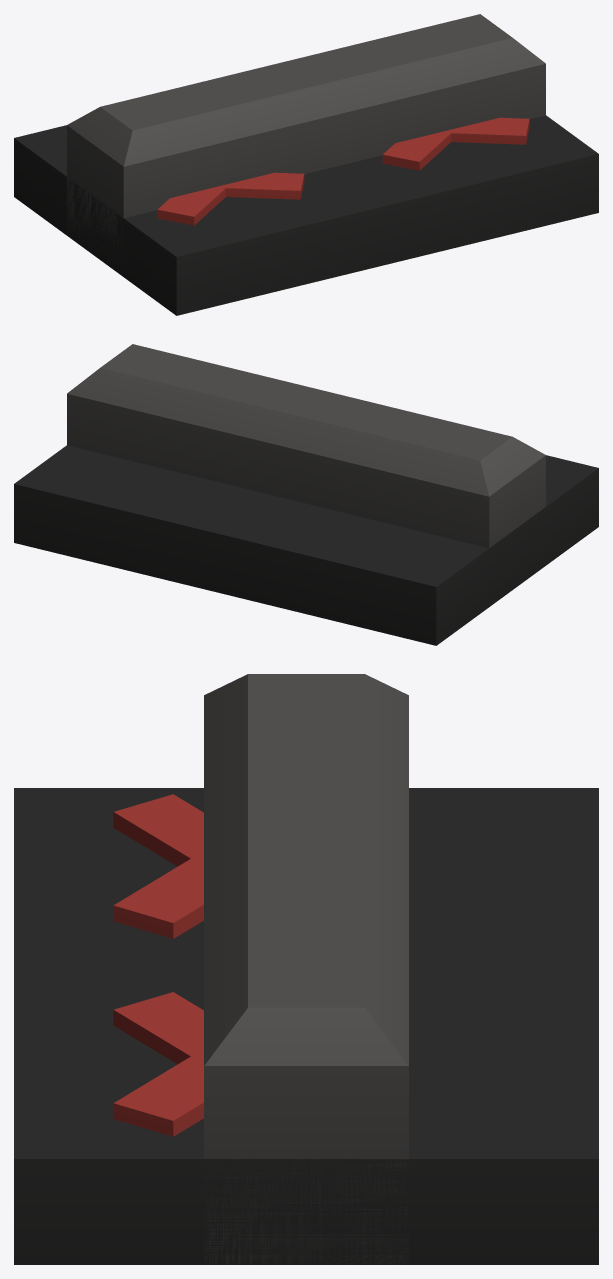
Rendered from fast-splitter.glb.
3 renders of one model, top to bottom at view 1: azimuth 30°, elevation 25°; view 2: azimuth 150°, elevation 25°; view 3: azimuth 270°, elevation 25°, orthographic. The views are drawn at different scales.
Visible parts, largest first — view 1: fast-splitter; view 2: fast-splitter; view 3: fast-splitter.
Boxes of the visible parts, <box> form: fast-splitter: <box>14,14,598,315</box>; fast-splitter: <box>14,344,598,645</box>; fast-splitter: <box>14,674,598,1264</box>.
Size of the model in its own units: 0.3 by 0.09 by 0.2.
